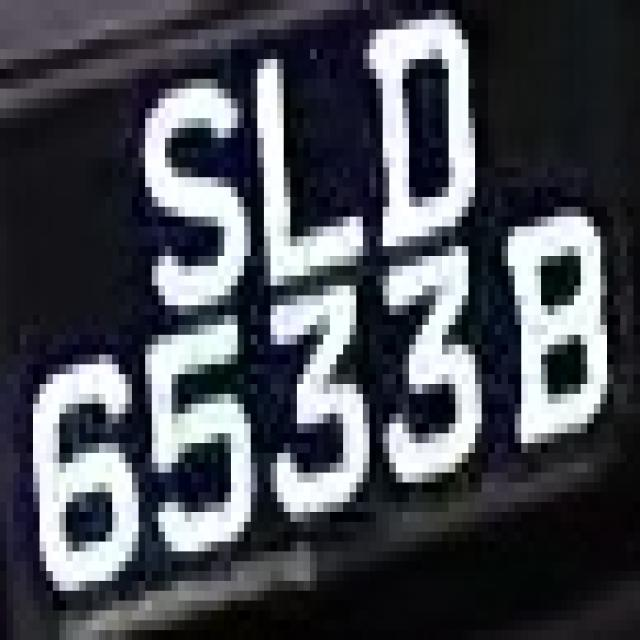3: (369, 217, 488, 492), (250, 276, 370, 522)
5: (138, 296, 258, 562)
6: (0, 354, 139, 610)
B: (501, 177, 607, 463)
D: (350, 20, 495, 236)
L: (231, 29, 376, 286)
S: (119, 39, 244, 296)
